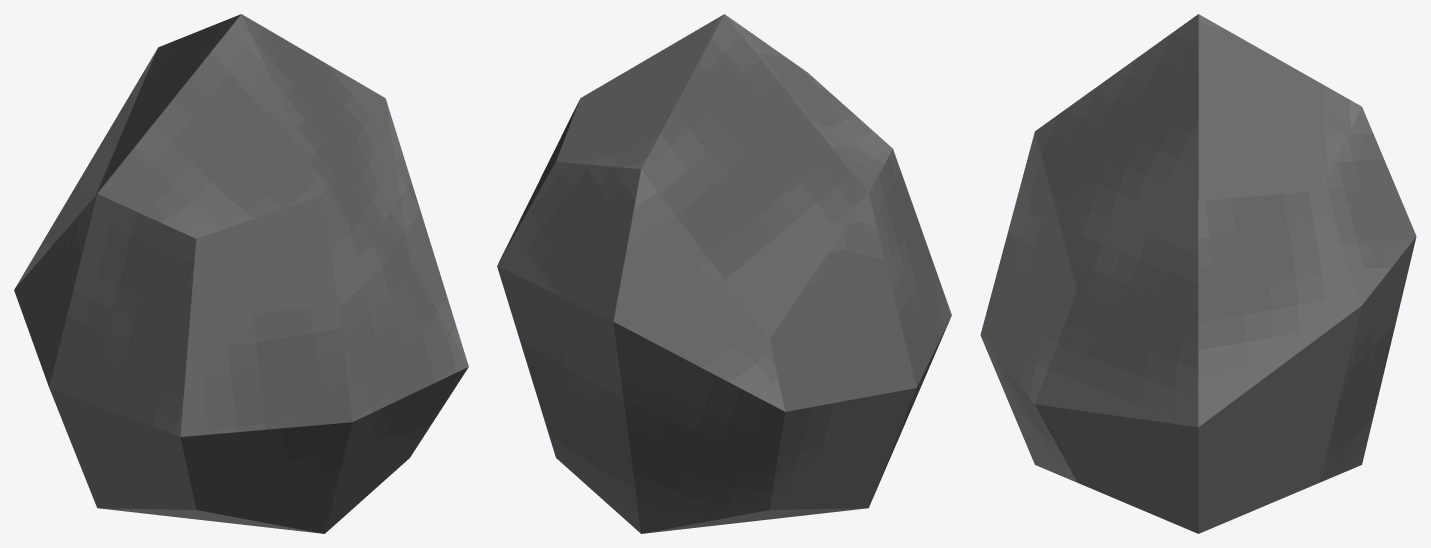
The model's file is rock.obj.
The picture shows the model from 3 angles, left to right: view 1: azimuth 30°, elevation 25°; view 2: azimuth 150°, elevation 25°; view 3: azimuth 270°, elevation 25°; orthographic projection.
Parts seen in each view (by area): view 1: cuboid; view 2: cuboid; view 3: cuboid.
Boxes of the visible parts, x1,y1,x2,y2 form: cuboid: (14, 14, 468, 533); cuboid: (497, 14, 951, 533); cuboid: (980, 14, 1416, 533).
Size of the model in its own units: 1 by 1.14 by 1.
